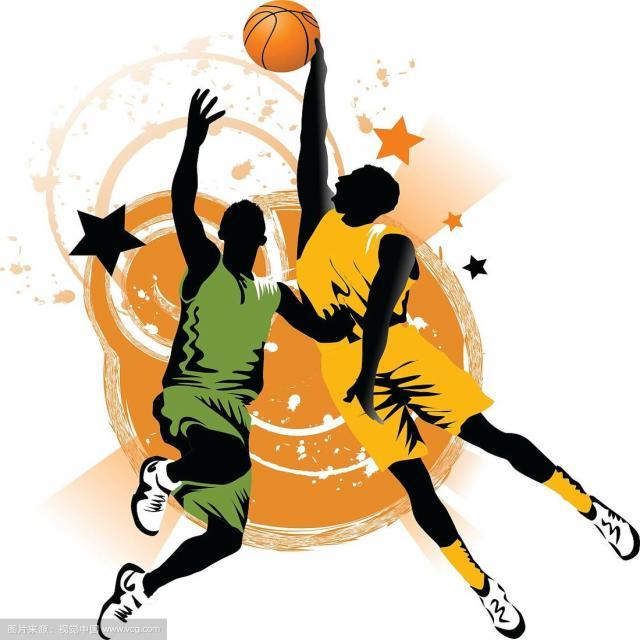rim: (242, 0, 318, 72)
